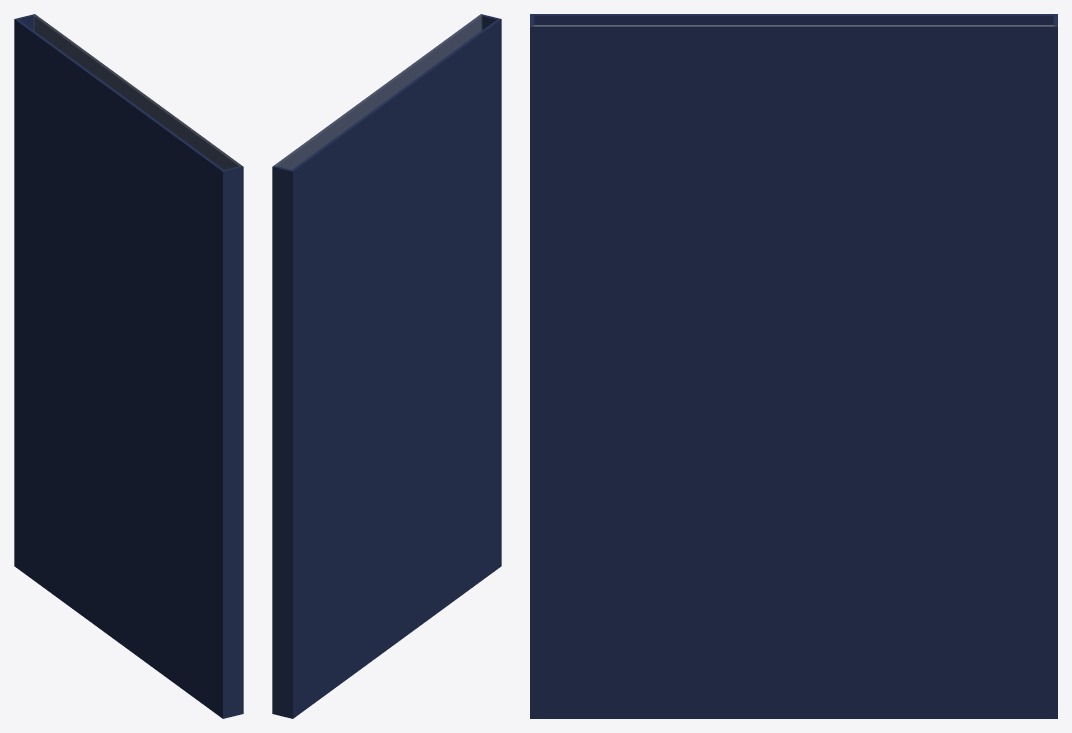
The model's file is Galton Board Textured.glb.
3 renders of one model, left to right at view 1: azimuth 30°, elevation 25°; view 2: azimuth 150°, elevation 25°; view 3: azimuth 270°, elevation 25°, orthographic. The views are drawn at different scales.
Visible parts, largest first — view 1: Galton Board, Galton Board Final; view 2: Galton Board, Galton Board Final; view 3: Galton Board, Galton Board Final.
Boxes of the visible parts, box(x1,y1,x2,y2) form: Galton Board: box(14, 14, 243, 718); Galton Board Final: box(15, 14, 242, 171); Galton Board: box(272, 14, 501, 718); Galton Board Final: box(273, 14, 500, 171); Galton Board: box(530, 25, 1057, 718); Galton Board Final: box(530, 14, 1057, 26).
Bounding box in the file's own units: 0.1548 × 3.92 × 2.71.
